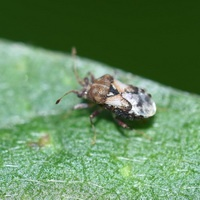insect: (55, 48, 155, 127)
